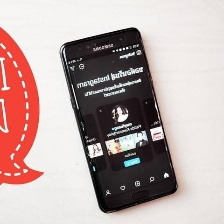phone: (57, 24, 180, 216)
